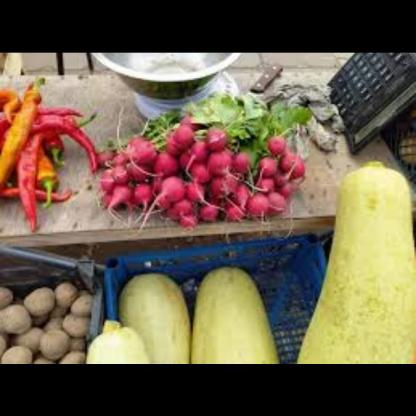hot pepper: (0, 63, 105, 236)
potato: (0, 260, 92, 362)
rediska: (102, 112, 307, 221)
vegetable marrow: (296, 153, 416, 363), (90, 255, 300, 362)
